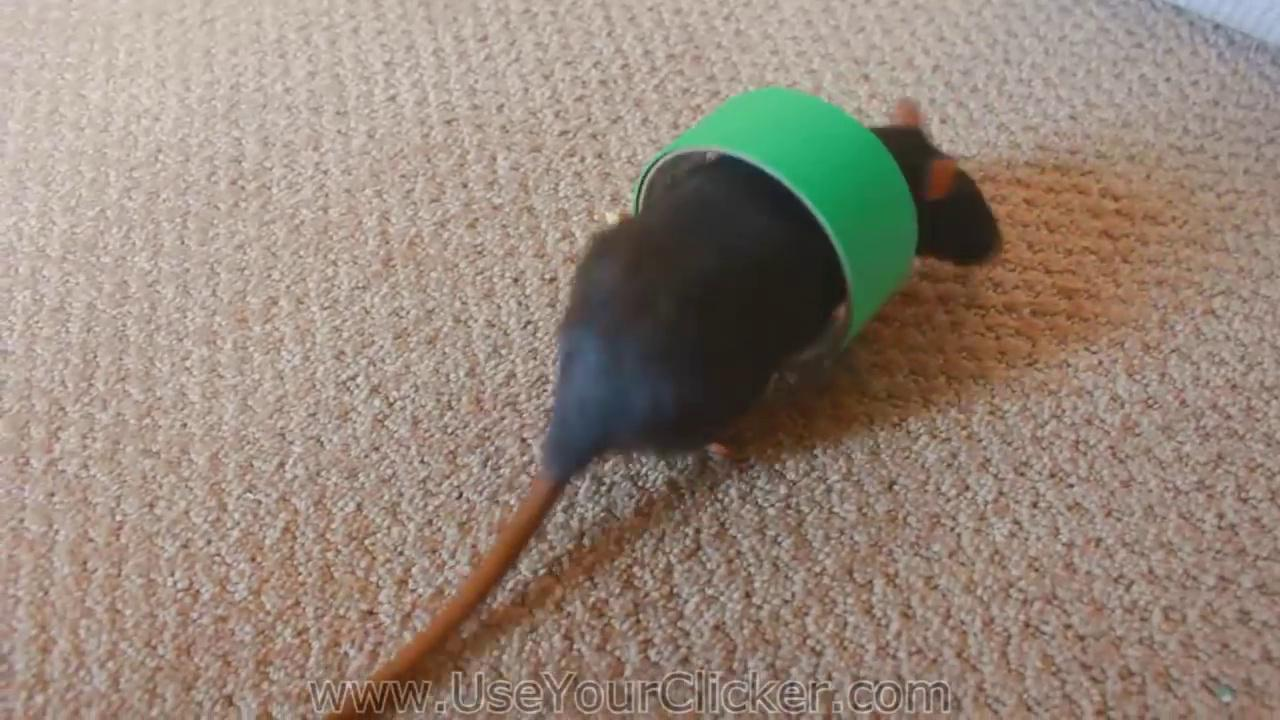rat: (321, 95, 1003, 720)
